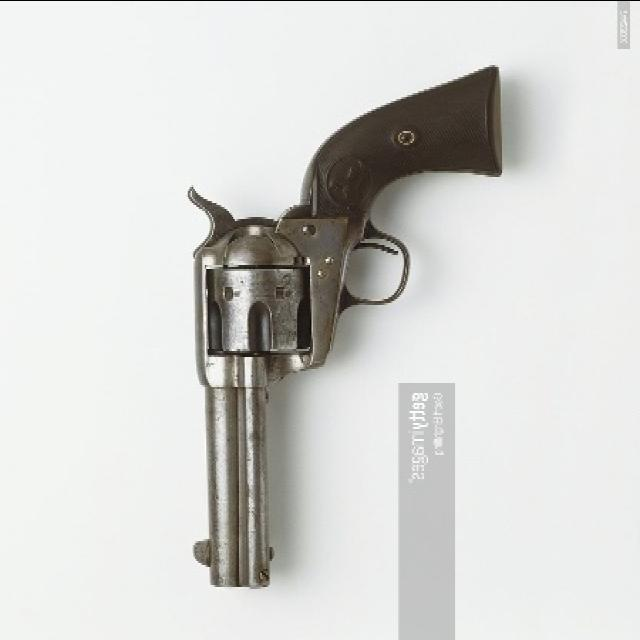handgun: (182, 75, 502, 589)
